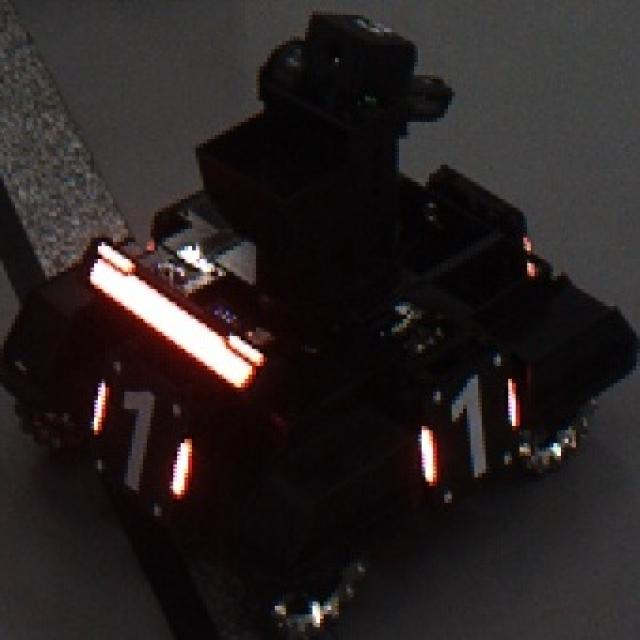R1: (92, 381, 188, 497), (418, 372, 518, 482)
